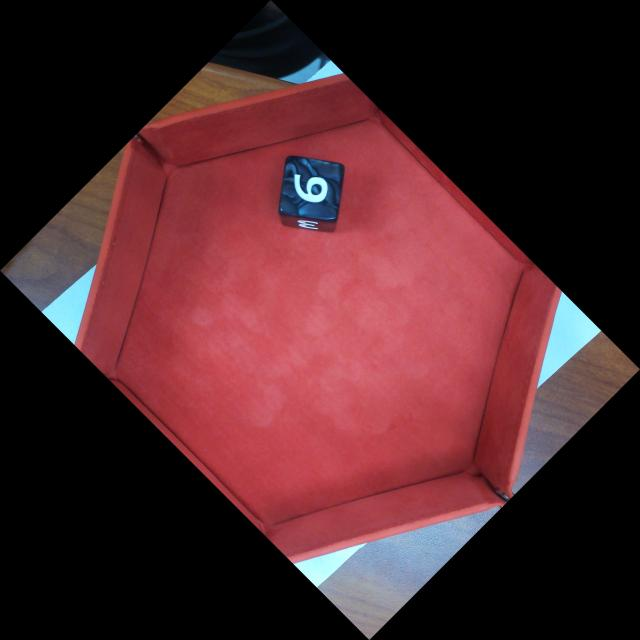dice: (279, 158, 350, 222)
